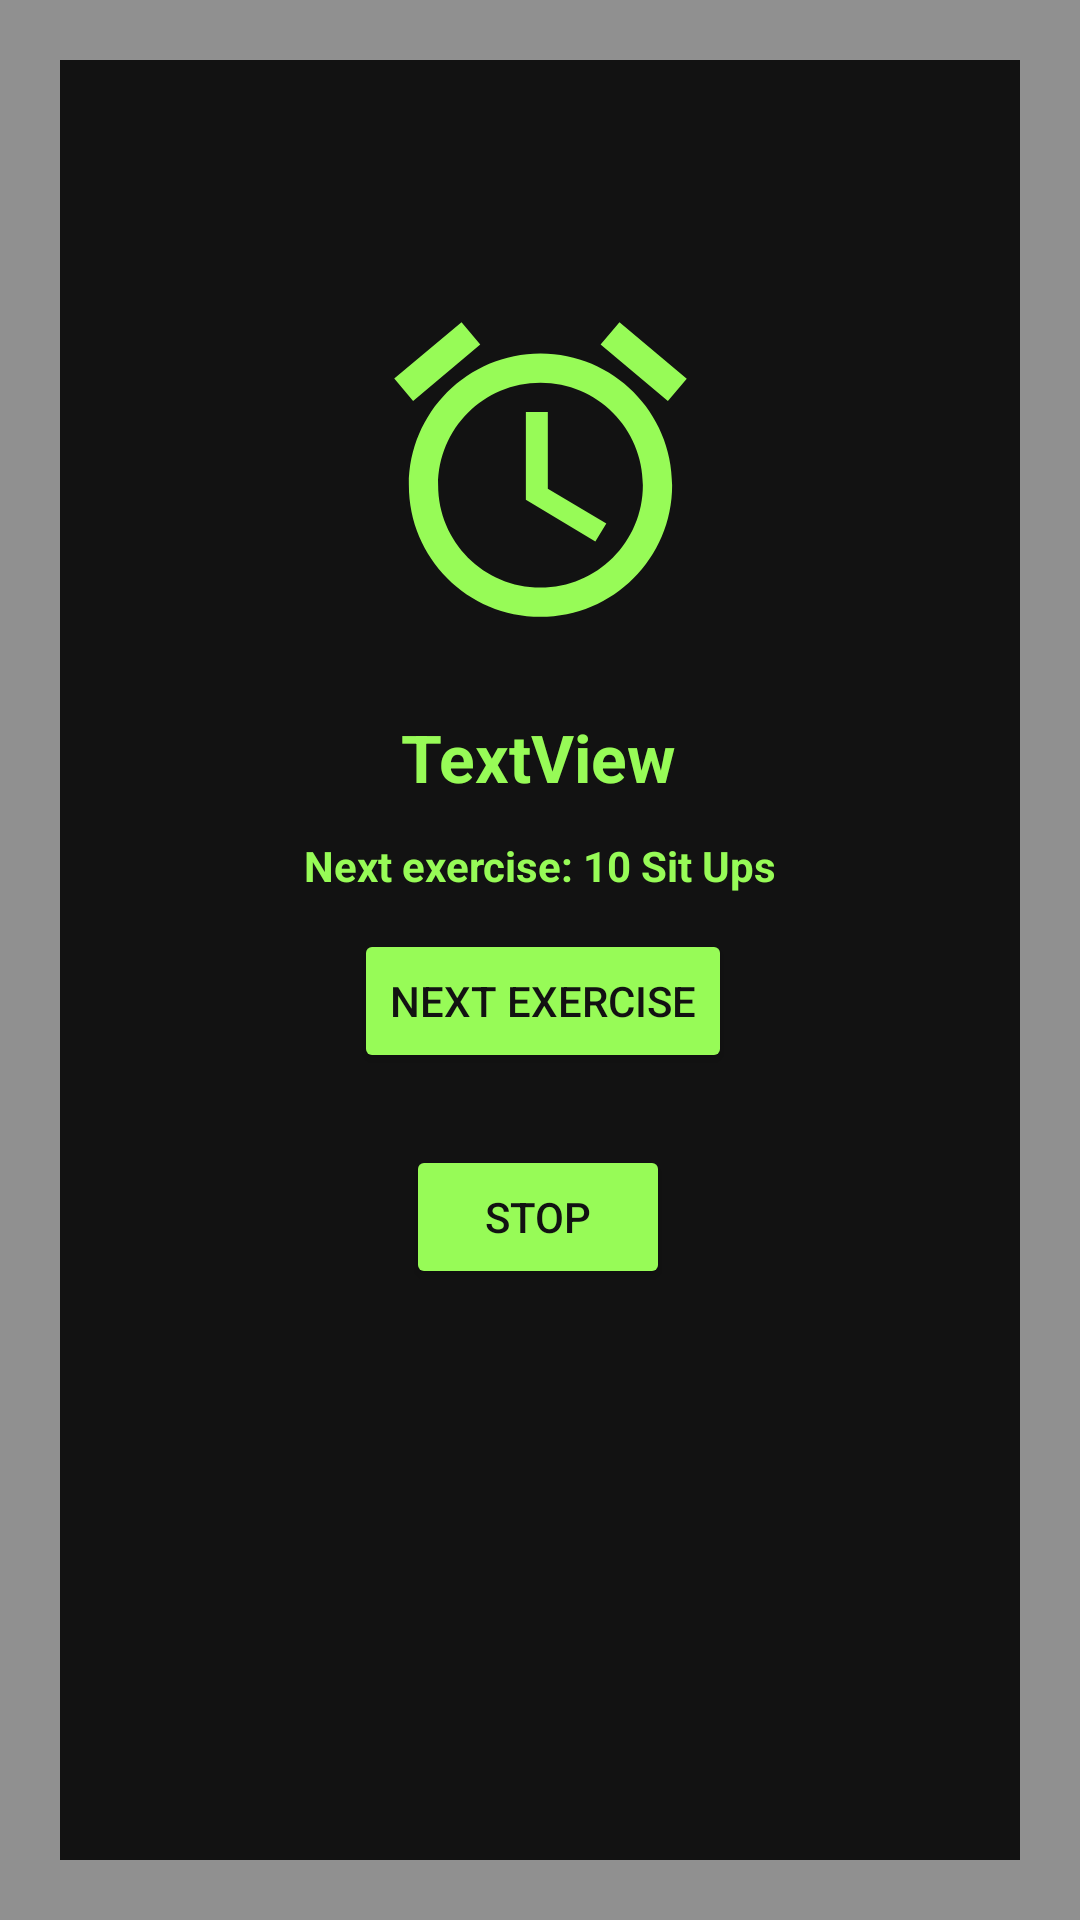

Icon bounding boxes for this 1080 x 1920 phone screenshot, format rect(x1, y1, x2, y2):
access alarm: rect(394, 322, 687, 617)
